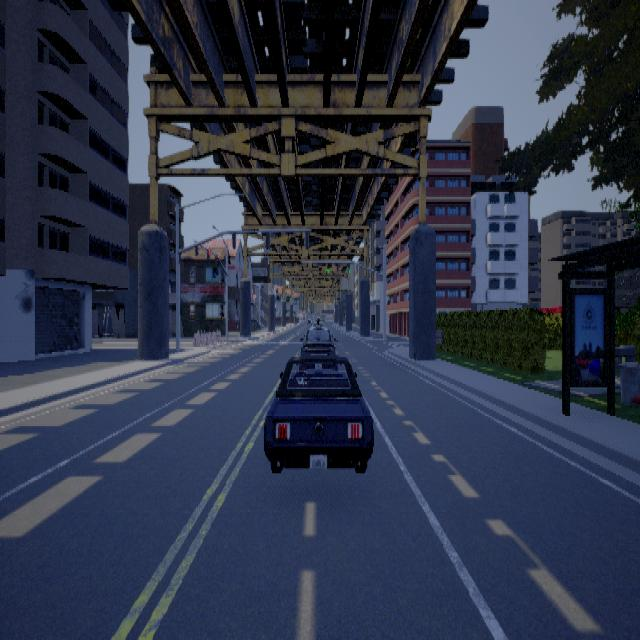green_light: (348, 262, 350, 272), (326, 263, 328, 273)
vehicle: (263, 315, 373, 472)
